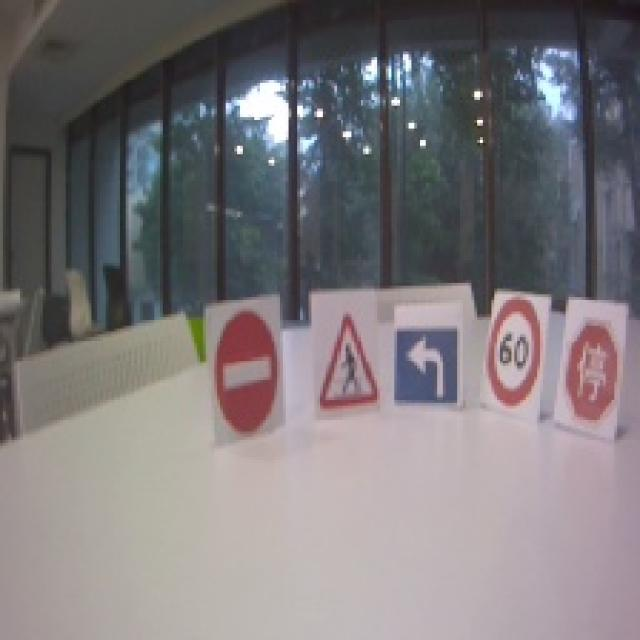DoNotEnterSign: (213, 309, 282, 436)
